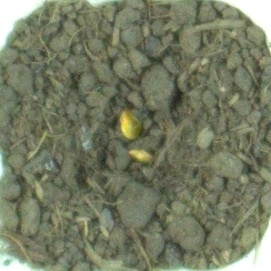chilli seed: (115, 107, 146, 142), (125, 146, 154, 167)
